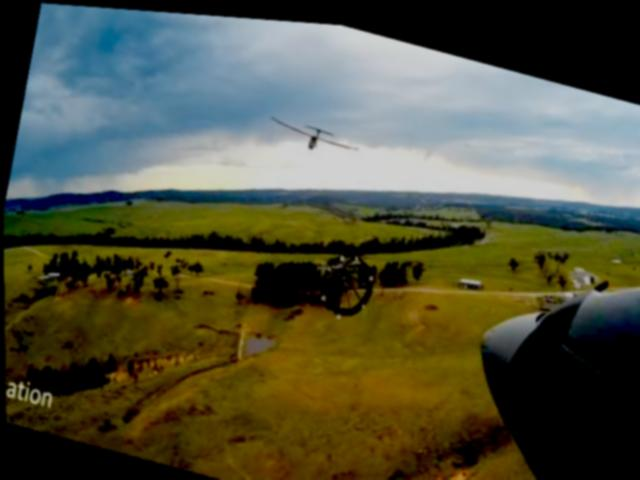uav: (259, 95, 366, 167)
